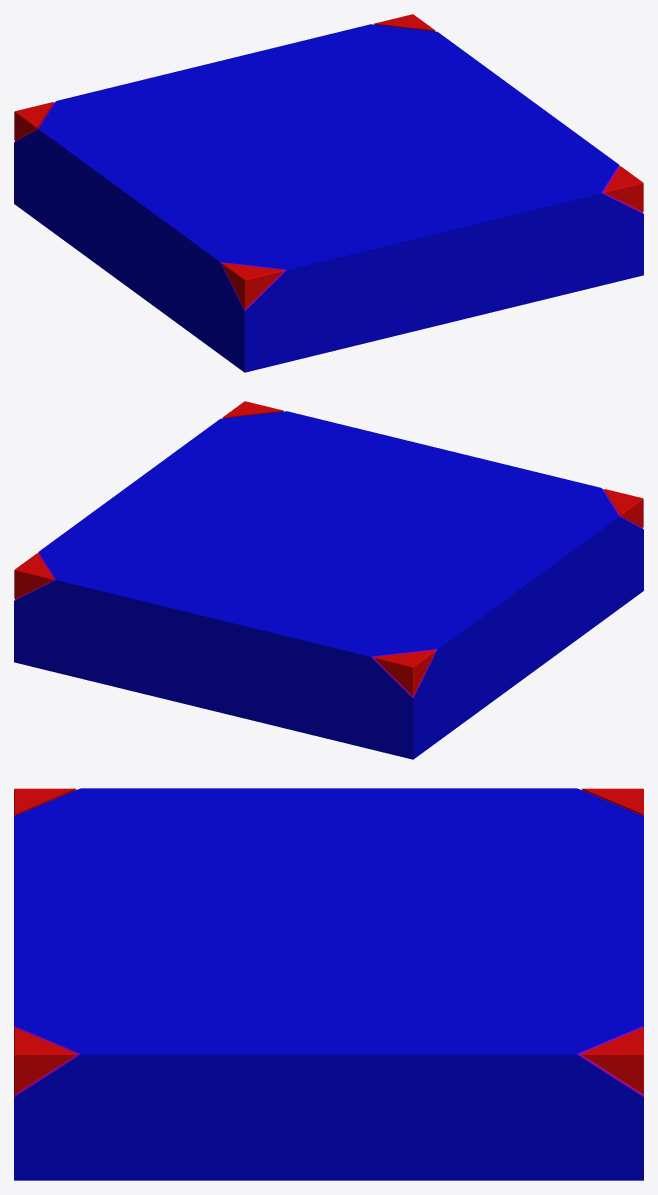
The model's file is strings platform_id.fbx.
3 renders of one model, top to bottom at view 1: azimuth 30°, elevation 25°; view 2: azimuth 150°, elevation 25°; view 3: azimuth 270°, elevation 25°, orthographic. The views are drawn at different scales.
Visible parts, largest first — view 1: High; view 2: High; view 3: High.
Part boxes in pixels (x1,y1,x2,y2): High: (14, 14, 643, 372); High: (14, 401, 643, 759); High: (14, 788, 643, 1180).
Bounding box in the file's own units: 401 × 88.97 × 401.
